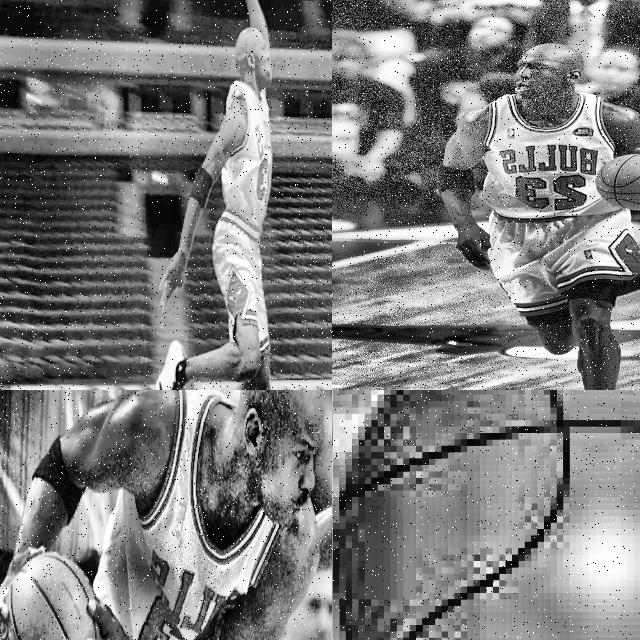Basketball: (332, 390, 640, 640), (6, 551, 94, 640), (596, 154, 640, 210)
